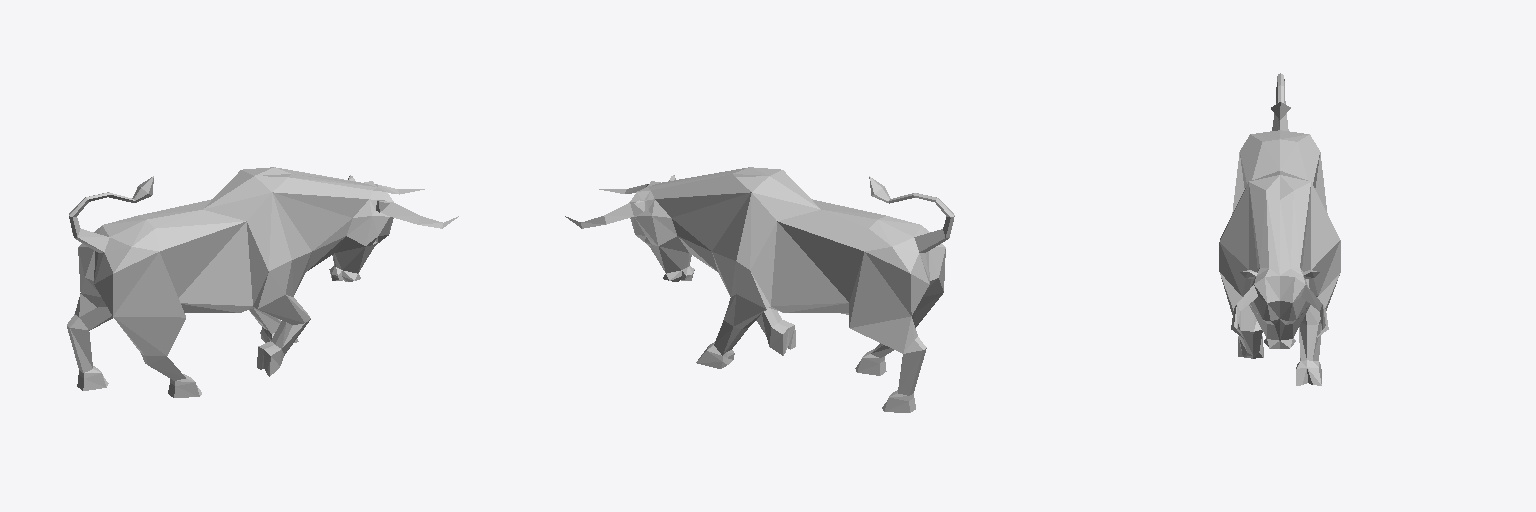
File: niu.obj
3 views of the same model, side by side, from view 1: azimuth 30°, elevation 25°; view 2: azimuth 150°, elevation 25°; view 3: azimuth 270°, elevation 25° (orthographic).
Parts seen in each view (by area): view 1: Default; view 2: Default; view 3: Default.
Boxes of the visible parts, x1=… form: Default: x1=67, y1=167, x2=458, y2=397; Default: x1=565, y1=167, x2=954, y2=412; Default: x1=1219, y1=73, x2=1340, y2=385.
Size of the model in its own units: 2856 by 1533 by 802.